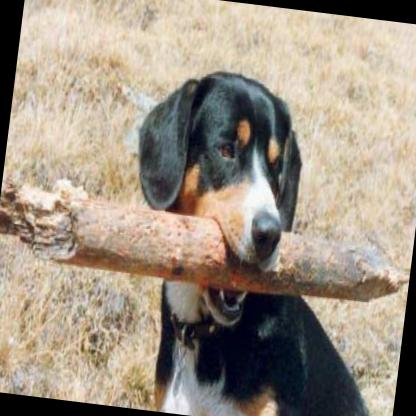EntleBucher: (104, 61, 416, 416)
